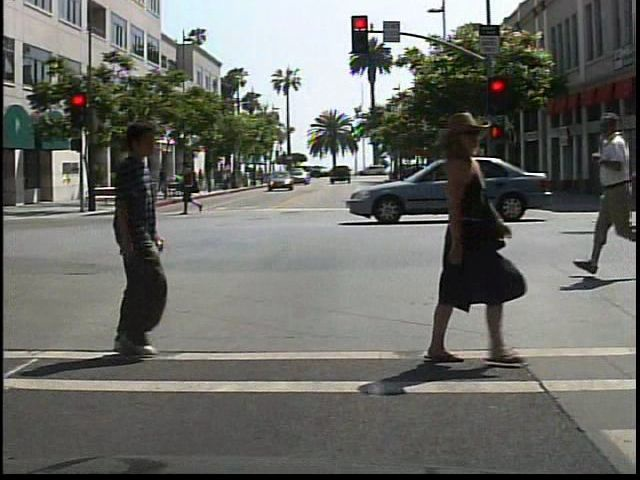person: (68, 123, 210, 359), (400, 114, 532, 366), (175, 156, 211, 218), (133, 164, 154, 207)
